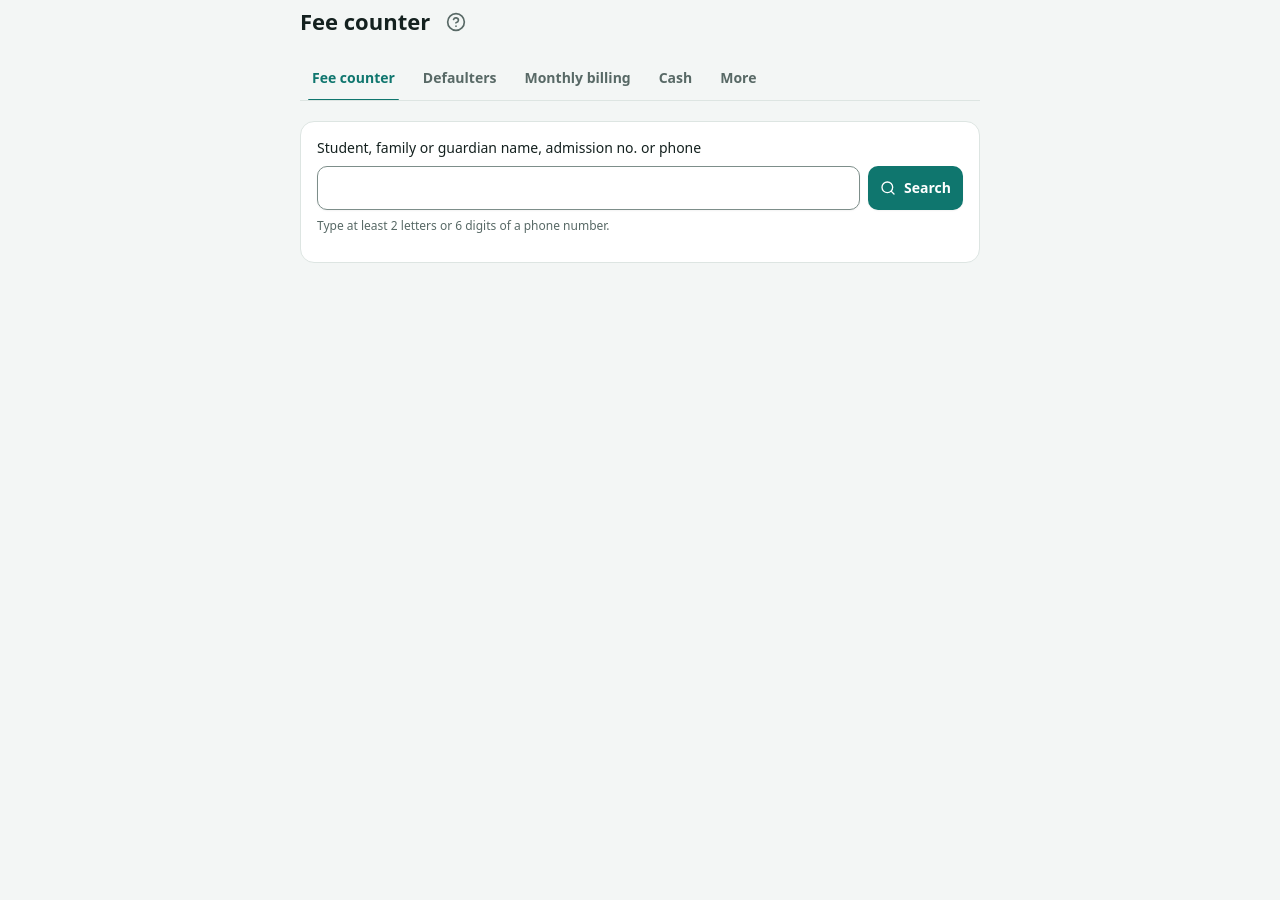
Test case: contextual help › the counter "?" opens "Collect a fee" in a sheet; Show me starts its tour
Click the button named "Help for this screen" at (456, 22), box [434,0,478,44]
(page scrolled)
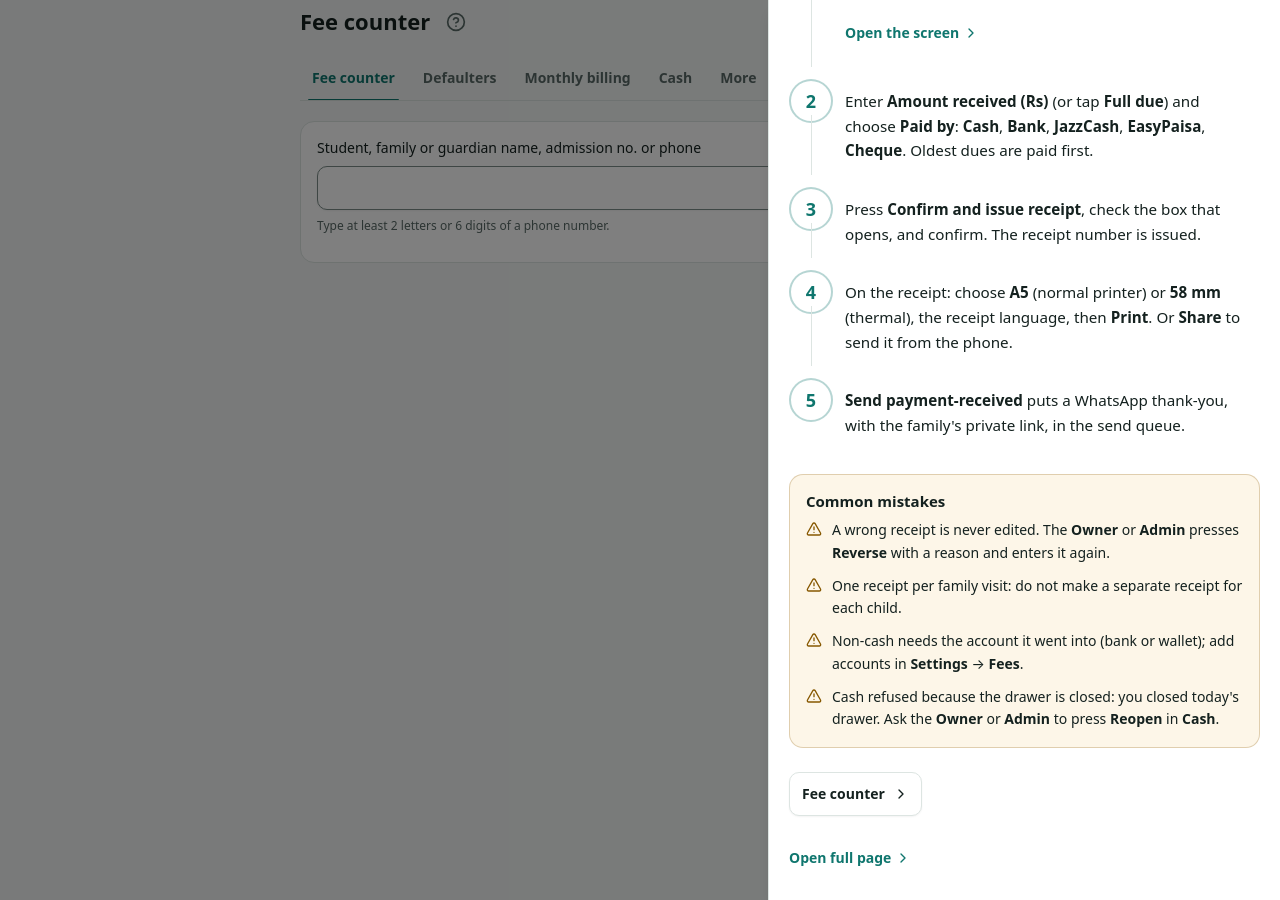
Expected: the text "Confirm and issue receipt" is shown, [887,199,1081,219]
